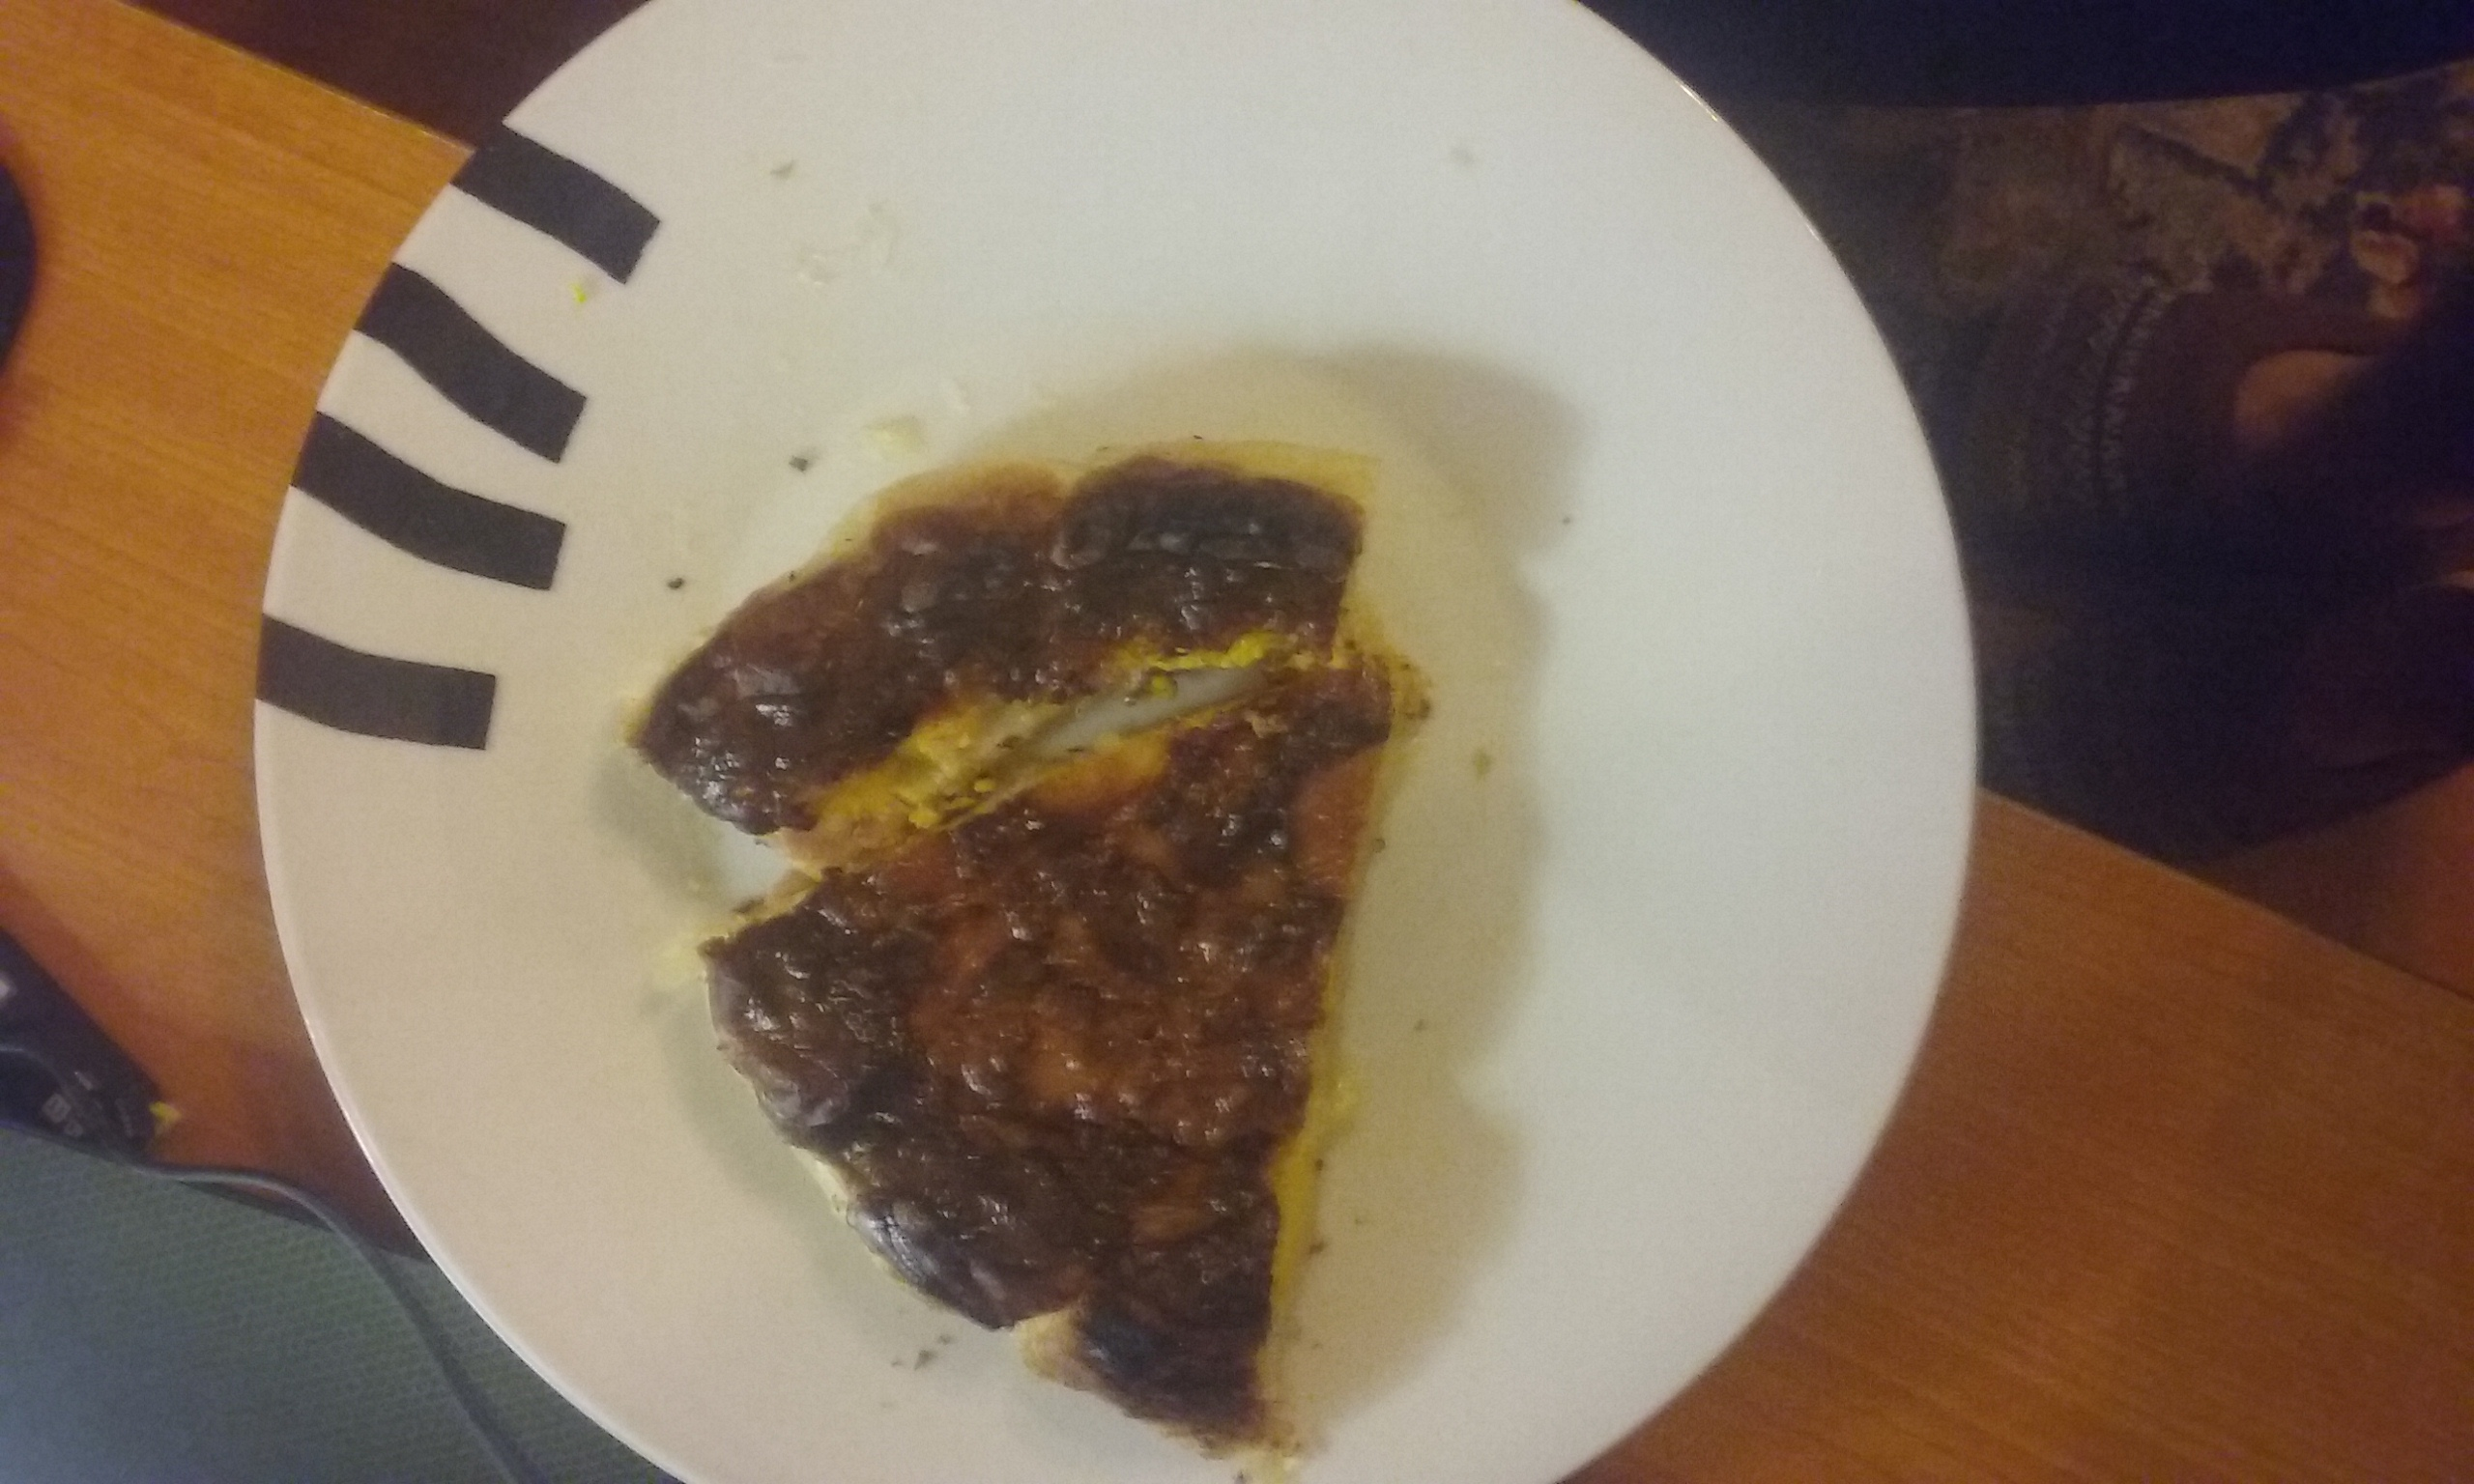61-80: (285, 19, 1958, 1482)
